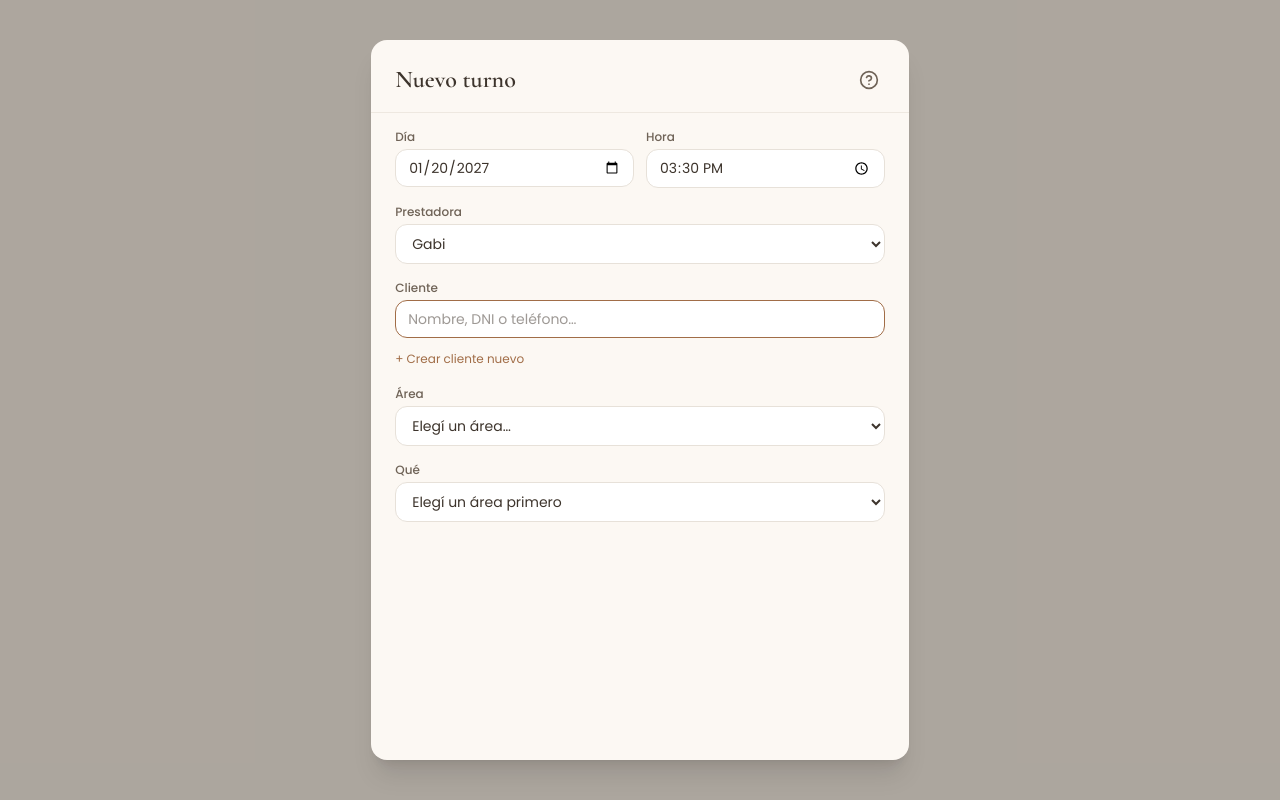
NuevoTurnoModal — la ayuda › el ícono va en el renglón del título y abre la ayuda en lugar del formulario
Click the button named "Cómo cargar un turno" at (869,80), box 853,64 -> 885,96
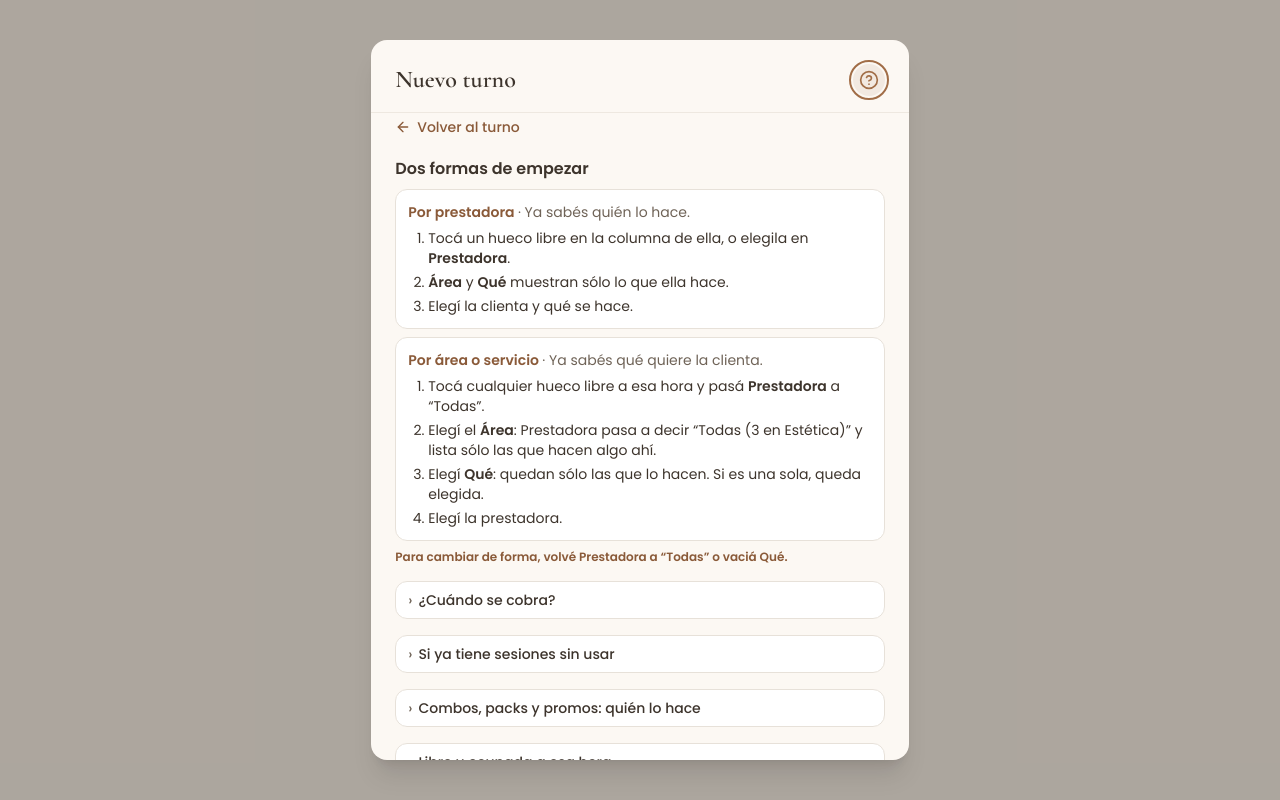
Check: the heading "Por prestadora · Ya sabés quién lo hace." is shown, box 408,202 -> 690,222
Check: the heading "Por área o servicio · Ya sabés qué quiere la clienta." is shown, box 408,350 -> 763,370
Check: the text labelled "Día" is gone
